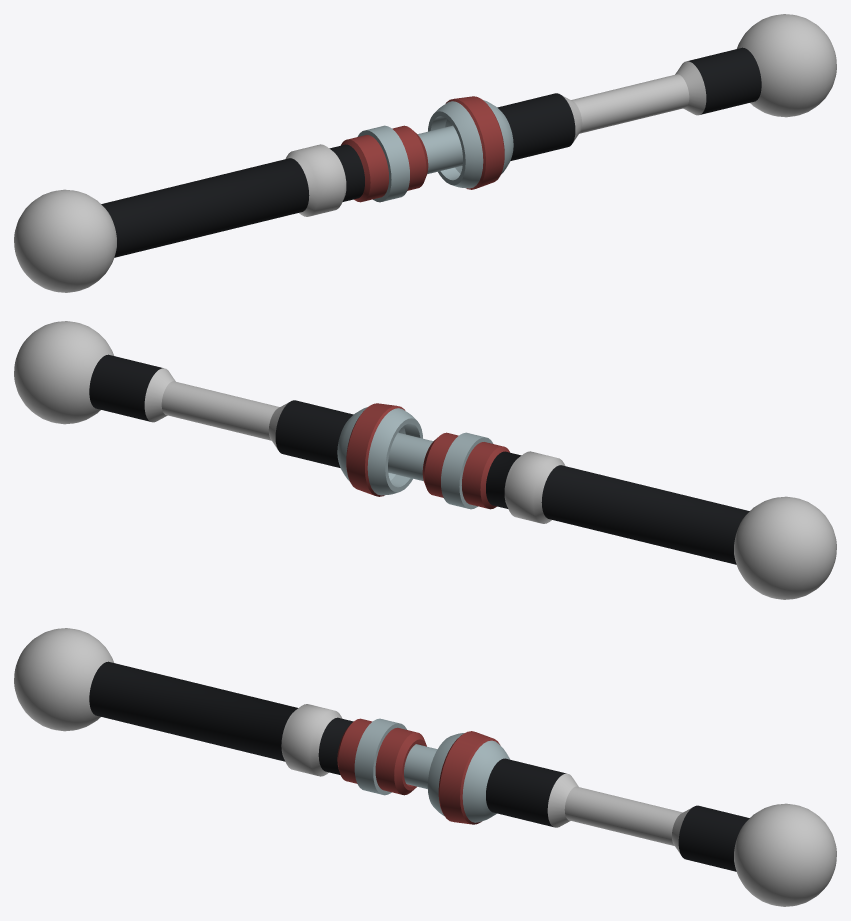
3 views of the same model, one above another, from view 1: azimuth 30°, elevation 25°; view 2: azimuth 150°, elevation 25°; view 3: azimuth 330°, elevation 25° (orthographic).
Visible parts, largest first — view 1: AU; view 2: AU; view 3: AU.
Part boxes in pixels (<box>): AU: <box>14,14,836,292</box>; AU: <box>14,321,836,599</box>; AU: <box>14,628,836,906</box>.
Bounding box in the file's own units: 1198 × 132 × 132.
